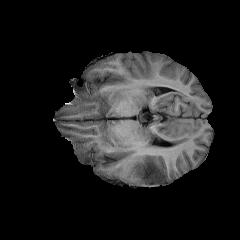glioma: (131, 158, 167, 183)
